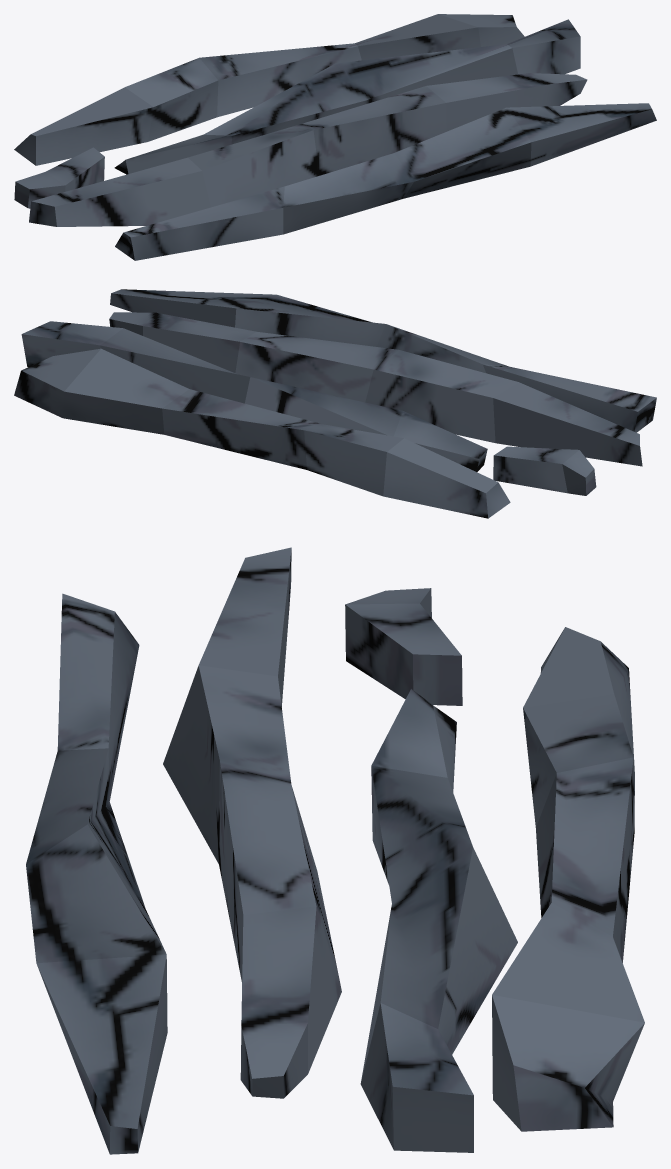
Rendered from Chopped_IronBark.fbx.
3 renders of one model, top to bottom at view 1: azimuth 30°, elevation 25°; view 2: azimuth 150°, elevation 25°; view 3: azimuth 270°, elevation 25°, orthographic. The views are drawn at different scales.
Visible parts, largest first — view 1: Chopped Iron Bark; view 2: Chopped Iron Bark; view 3: Chopped Iron Bark.
Boxes of the visible parts, x1=… form: Chopped Iron Bark: x1=14, y1=14, x2=656, y2=260; Chopped Iron Bark: x1=14, y1=289, x2=656, y2=518; Chopped Iron Bark: x1=26, y1=547, x2=644, y2=1154.
Bounding box in the file's own units: 125 × 58.27 × 12.84.
1 material, 1 textured.
